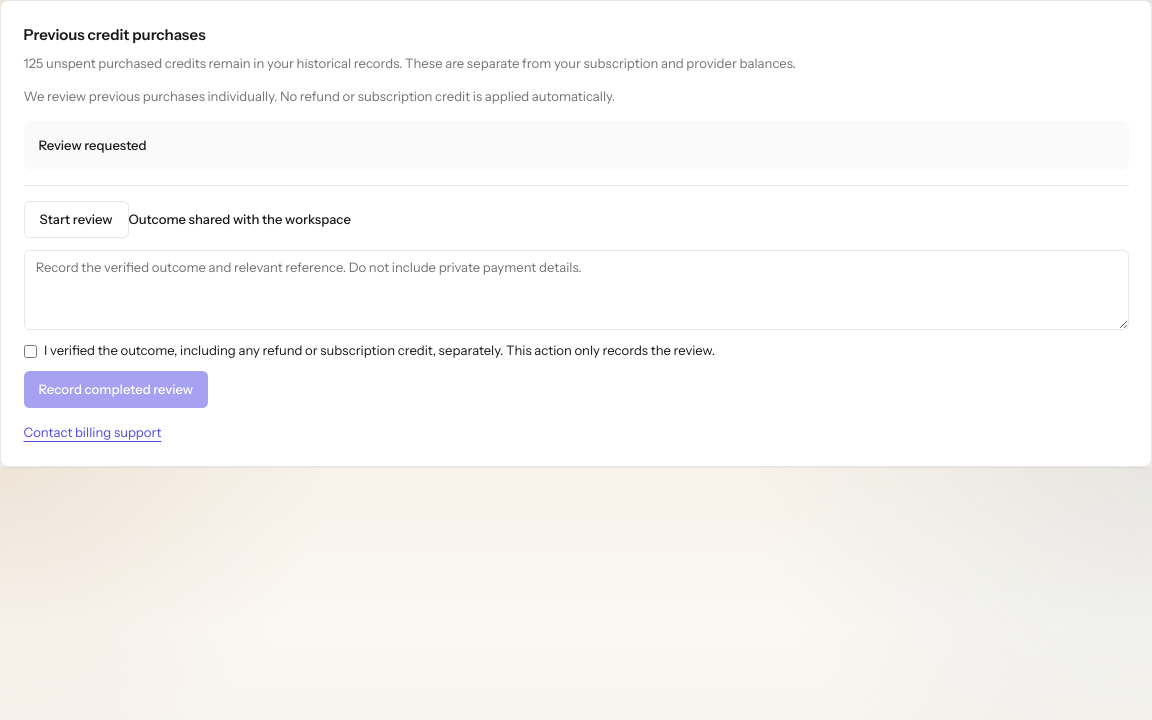
Scenario: historical purchased-credit review › lets an admin start review without representing that as a settlement
The image size is (1152, 720).
Click the button "Start review".
click(76, 220)  # box [24,201,129,238]
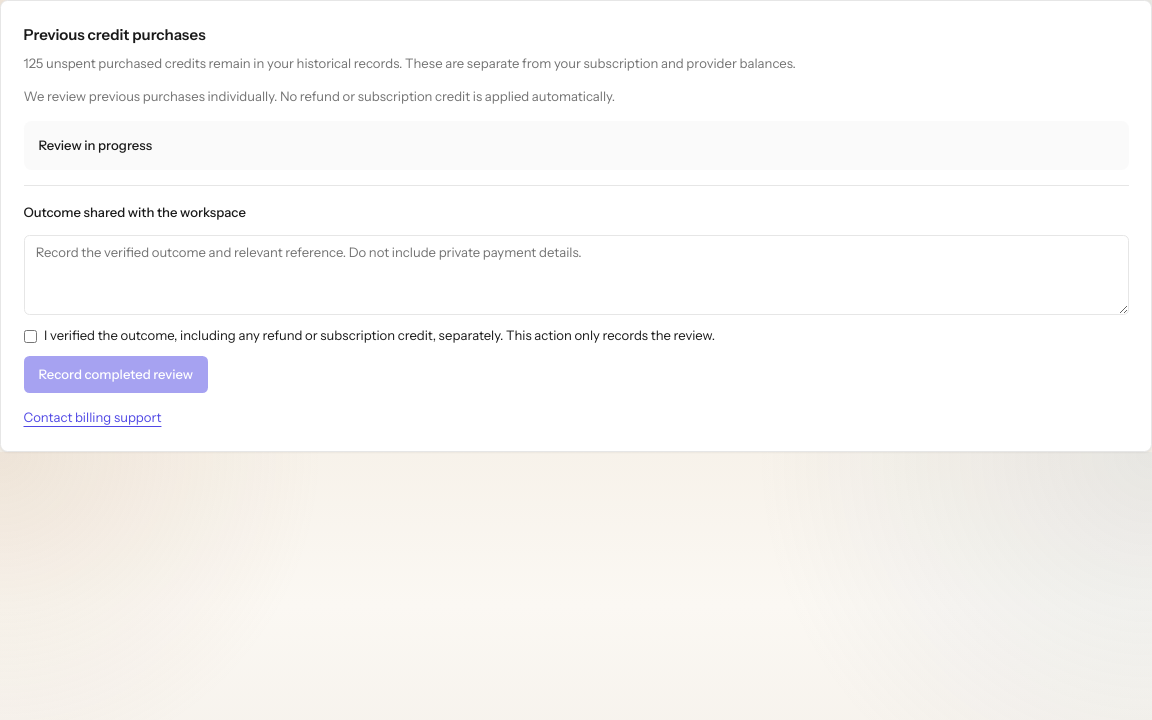
Check: the text "Review in progress" is shown, box [38,137,152,153]
